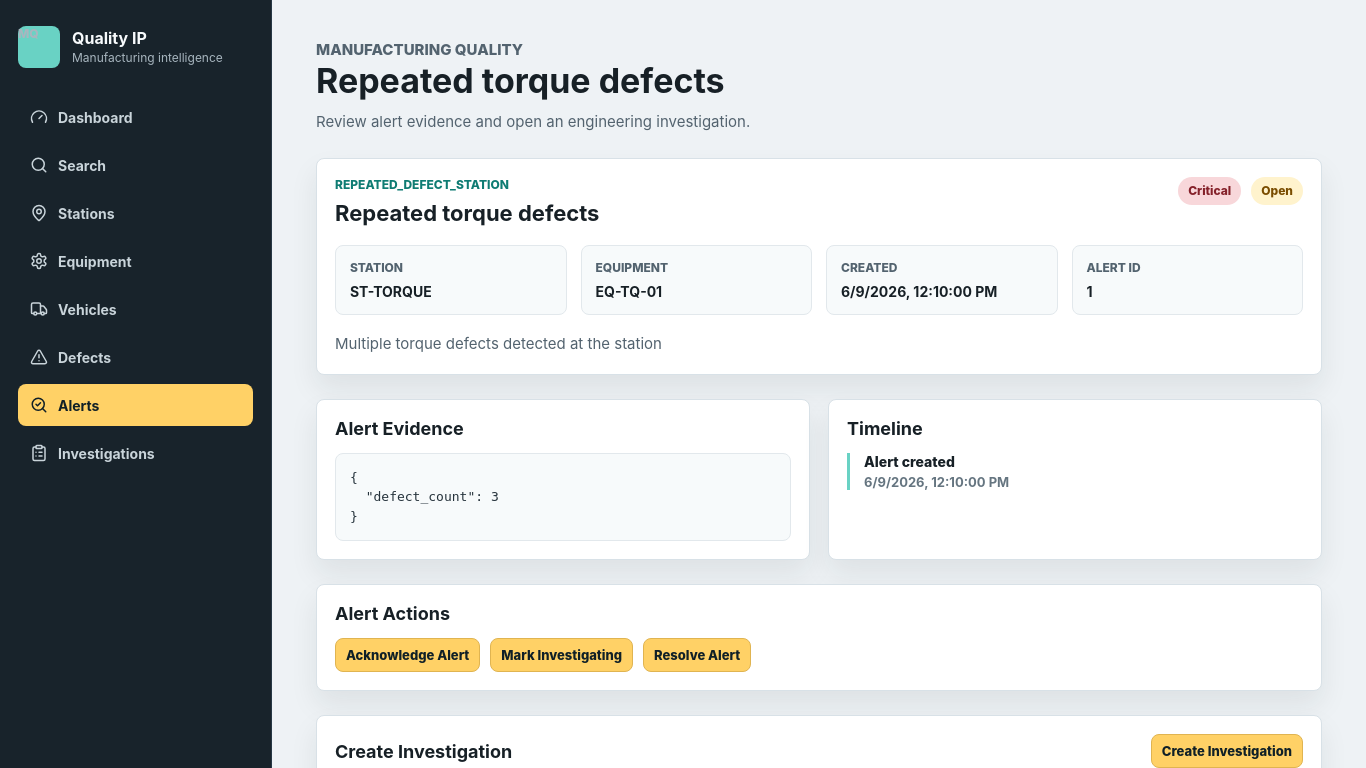
Phase 11 workflow pages › renders the create investigation form from alert detail
This screenshot has width=1366, height=768.
Click the button "Create Investigation" at (1227, 751), box [1151, 734, 1303, 767]
(page scrolled)
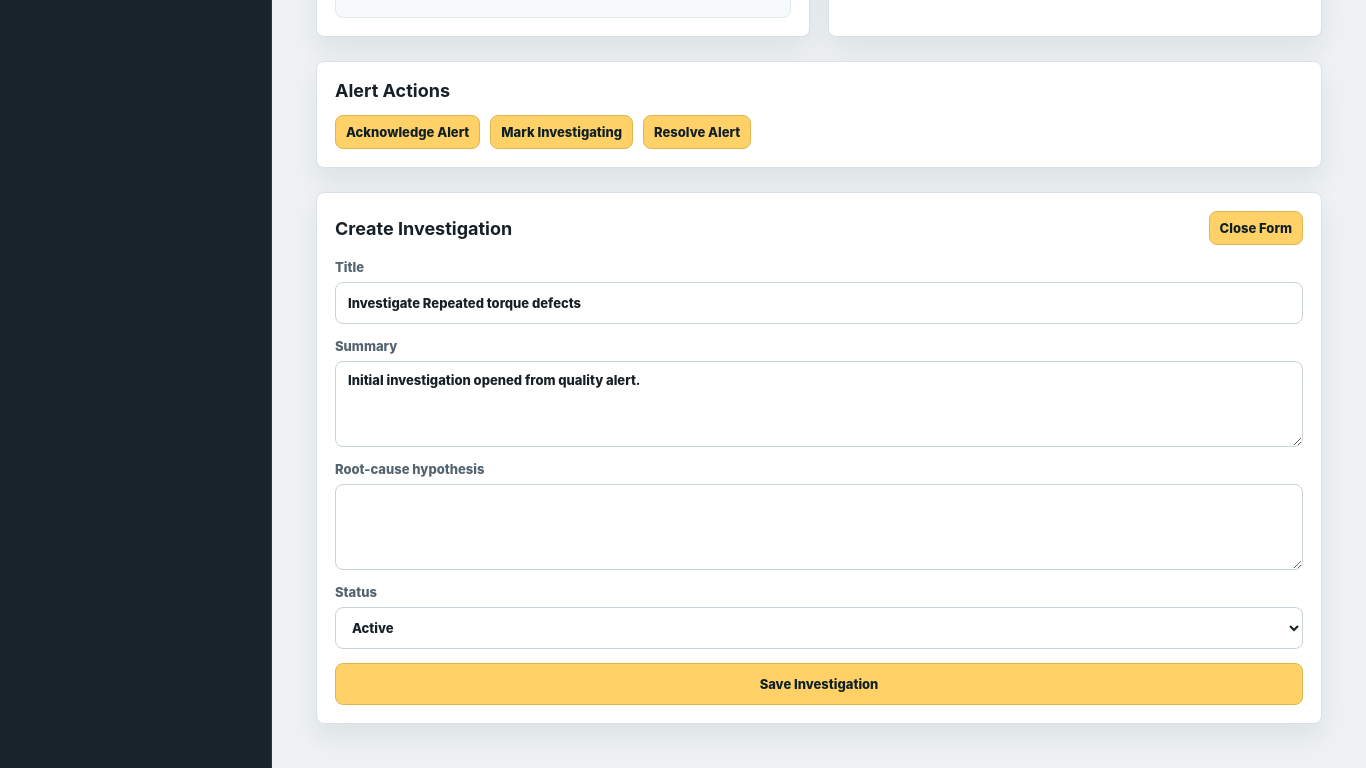
Check: the field labelled "Title" is shown, box [335, 282, 1303, 324]
Check: the text box labelled "Summary" is shown, box [335, 361, 1303, 447]
Check: the text box labelled "Root-cause hypothesis" is shown, box [335, 484, 1303, 570]
